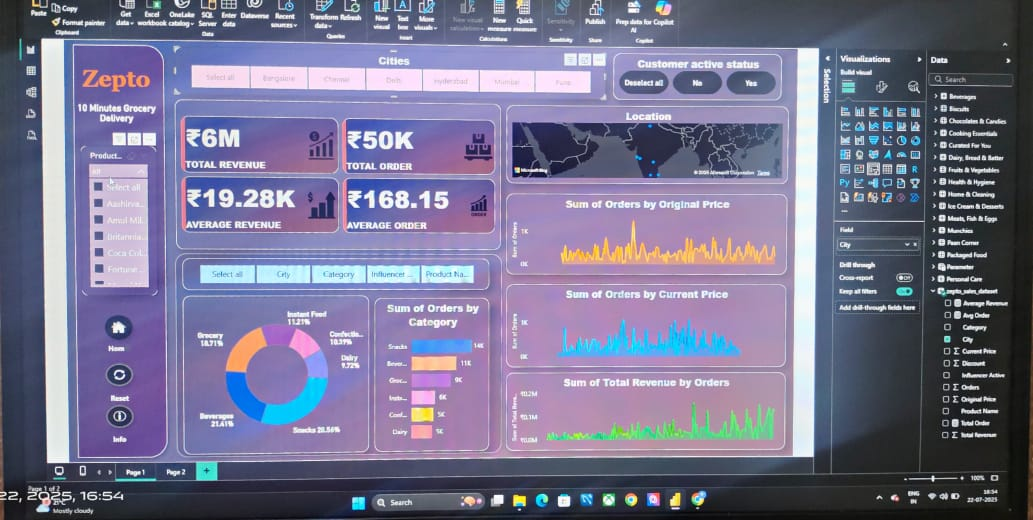

This screenshot's page, from the dashboard's own definition file:
{"tool":"powerbi","page":{"name":"Page 1","canvas":[1400,800],"ordinal":0},"visuals":[{"type":"shape","box":[7.8,0,186.7,800],"z":0},{"type":"textbox","box":[22.9,42.9,146.6,64.8],"z":1000},{"type":"textbox","box":[12,111.7,168.6,52.9],"z":2000},{"type":"slicer","title":"Cities","fields":{"Values":["zepto_sales_dataset.City"]},"box":[205,11.2,820,88.8],"z":3000},{"type":"map","title":"Location","fields":{"Category":["zepto_sales_dataset.City"]},"box":[832.2,112.2,552.2,151.1],"z":4000},{"type":"cardVisual","fields":{"Data":["Sum(zepto_sales_dataset.Total Revenue)","zepto_sales_dataset.Total Order","zepto_sales_dataset.Average Revenue","zepto_sales_dataset.Avg Order"]},"box":[205,110,616.2,282.5],"z":5000},{"type":"shape","box":[194.4,392.2,637.8,407.8],"z":6000},{"type":"donutChart","fields":{"Category":["zepto_sales_dataset.City","zepto_sales_dataset.Category","zepto_sales_dataset.Influencer Active","zepto_sales_dataset.Product Name"],"Y":["Sum(zepto_sales_dataset.Orders)"]},"box":[215.6,482.2,350,303.3],"z":7000},{"type":"slicer","fields":{"Values":["Parameter.Parameter"]},"box":[215.6,410,583.3,61.1],"z":8000},{"type":"clusteredBarChart","fields":{"Y":["Sum(zepto_sales_dataset.Orders)"],"Category":["zepto_sales_dataset.Category"]},"box":[576.7,486.7,222.2,298.9],"z":9000},{"type":"advancedSlicerVisual","title":"Customer active status","fields":{"Values":["zepto_sales_dataset.Influencer Active"]},"box":[1040,11.1,328.9,88.9],"z":10000},{"type":"areaChart","fields":{"Category":["zepto_sales_dataset.Original Price"],"Y":["Sum(zepto_sales_dataset.Orders)"]},"box":[832.2,283.3,552.2,157.8],"z":11000},{"type":"areaChart","fields":{"Category":["zepto_sales_dataset.Current Price"],"Y":["Sum(zepto_sales_dataset.Orders)"]},"box":[832.2,460,552.2,163.3],"z":12000},{"type":"stackedAreaChart","fields":{"Category":["zepto_sales_dataset.Orders"],"Y":["Sum(zepto_sales_dataset.Total Revenue)"]},"box":[832.2,634.4,552.2,152.2],"z":13000},{"type":"slicer","fields":{"Values":["zepto_sales_dataset.Product Name"]},"box":[27.8,197.8,142.2,284.4],"z":14000},{"type":"actionButton","box":[61.2,508.8,70,65],"z":15000},{"type":"actionButton","box":[61.1,601.1,70,62.2],"z":16000},{"type":"actionButton","box":[61.1,681.1,70,62.2],"z":17000},{"type":"textbox","box":[68.9,567.8,53.3,27.8],"z":18000},{"type":"textbox","box":[70,663.3,53.3,27.8],"z":19000},{"type":"textbox","box":[68.9,742.2,53.3,27.8],"z":20000}]}

Visuals, with their boxes on the page's 1400x800 design canvas (x1, y1, x2, y2). These are canvas units, not pixel positions in the 1033x520 screenshot, which may show the page scaled, cropped or inside an application window:
shape: 8, 0, 194, 800
textbox: 23, 43, 170, 108
textbox: 12, 112, 181, 165
"Cities" slicer: 205, 11, 1025, 100
"Location" map: 832, 112, 1384, 263
cardVisual - Sum(zepto_sales_dataset.Total Revenue) x zepto_sales_dataset.Total Order: 205, 110, 821, 392
shape: 194, 392, 832, 800
donutChart - zepto_sales_dataset.City x zepto_sales_dataset.Category: 216, 482, 566, 786
slicer - Parameter.Parameter: 216, 410, 799, 471
clusteredBarChart - Sum(zepto_sales_dataset.Orders) x zepto_sales_dataset.Category: 577, 487, 799, 786
"Customer active status" advancedSlicerVisual: 1040, 11, 1369, 100
areaChart - zepto_sales_dataset.Original Price x Sum(zepto_sales_dataset.Orders): 832, 283, 1384, 441
areaChart - zepto_sales_dataset.Current Price x Sum(zepto_sales_dataset.Orders): 832, 460, 1384, 623
stackedAreaChart - zepto_sales_dataset.Orders x Sum(zepto_sales_dataset.Total Revenue): 832, 634, 1384, 787
slicer - zepto_sales_dataset.Product Name: 28, 198, 170, 482
actionButton: 61, 509, 131, 574
actionButton: 61, 601, 131, 663
actionButton: 61, 681, 131, 743
textbox: 69, 568, 122, 596
textbox: 70, 663, 123, 691
textbox: 69, 742, 122, 770
